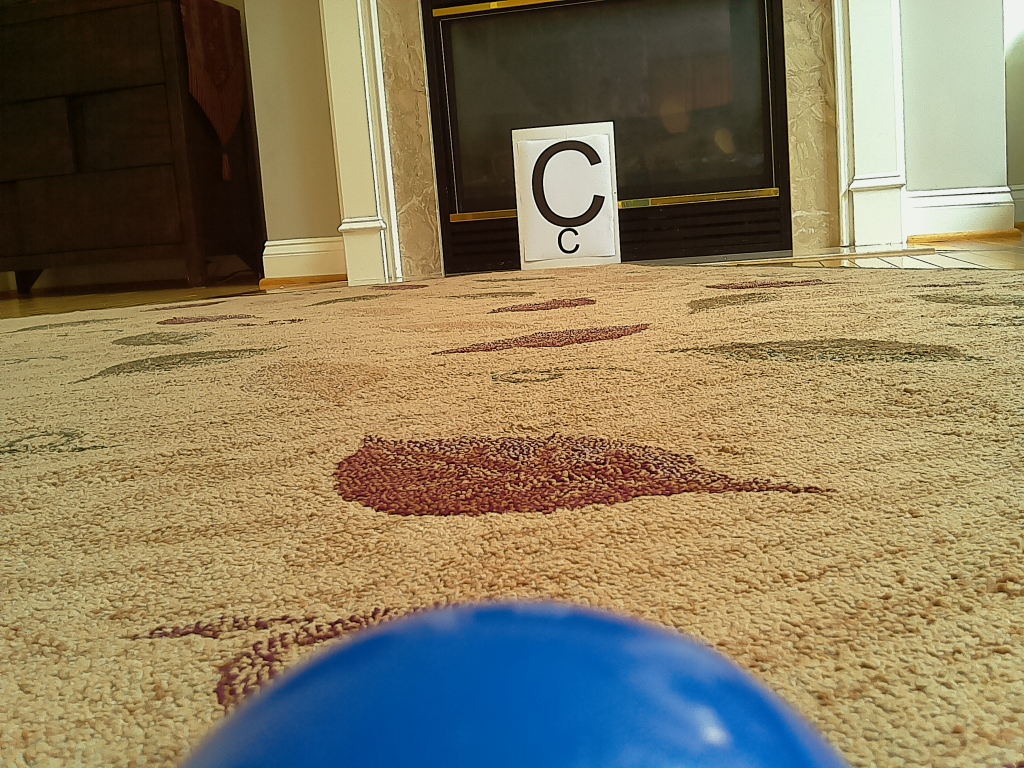letter: (532, 141, 605, 228)
